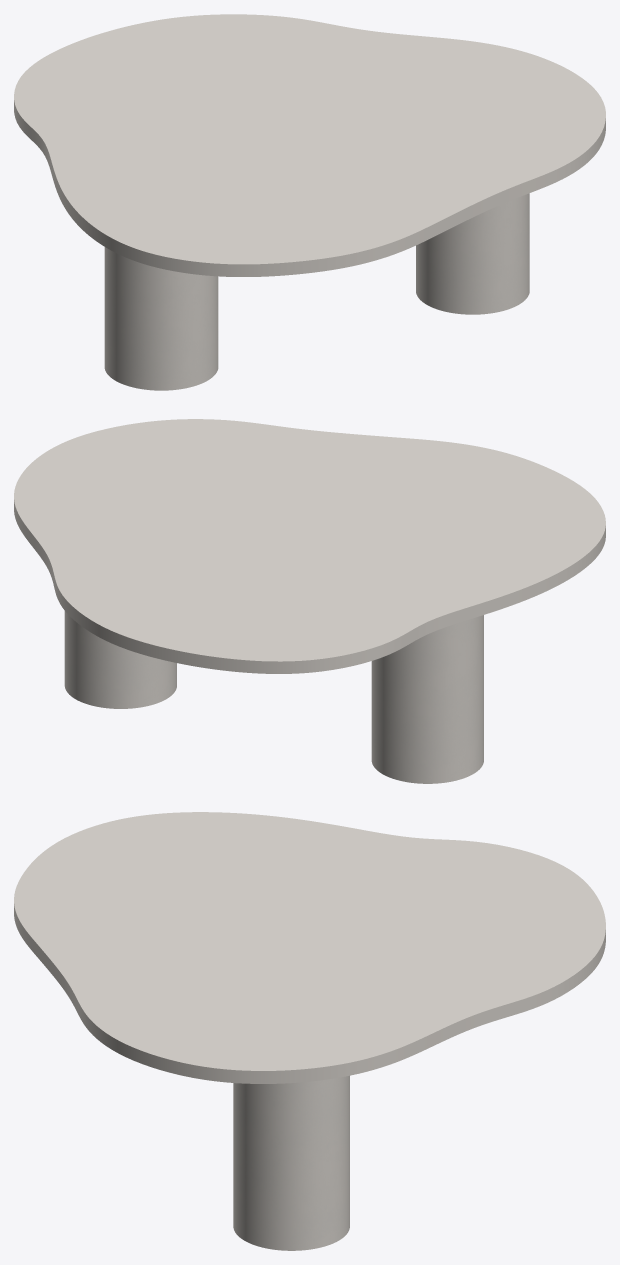
Rendered from pearlwhite_topone_round_stream.glb.
3 views of the same model, one above another, from view 1: azimuth 30°, elevation 25°; view 2: azimuth 150°, elevation 25°; view 3: azimuth 270°, elevation 25° (orthographic). The views are drawn at different scales.
Parts seen in each view (by area): view 1: round_topone, stream; view 2: round_topone, stream; view 3: round_topone, stream.
Boxes of the visible parts, x1,y1,x2,y2 form: round_topone: (14, 14, 605, 276); stream: (104, 193, 529, 390); round_topone: (14, 419, 605, 673); stream: (64, 611, 483, 783); round_topone: (14, 812, 605, 1083); stream: (233, 1075, 349, 1250).
Size of the model in its own units: 6.83 by 2.5 by 6.6.
Materials: 1 (1 with a texture image).
